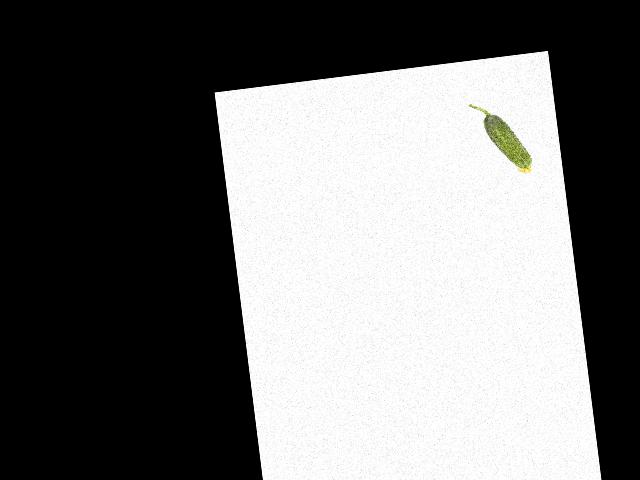cucumber: (469, 98, 534, 180)
